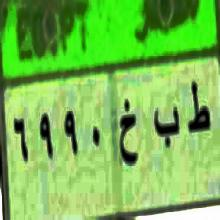0: (89, 122, 102, 152)
6: (13, 111, 30, 172)
9: (35, 107, 55, 171), (64, 106, 80, 165)
Taa: (186, 65, 212, 143)
baa: (150, 99, 181, 156)
khaa: (116, 100, 141, 169)
